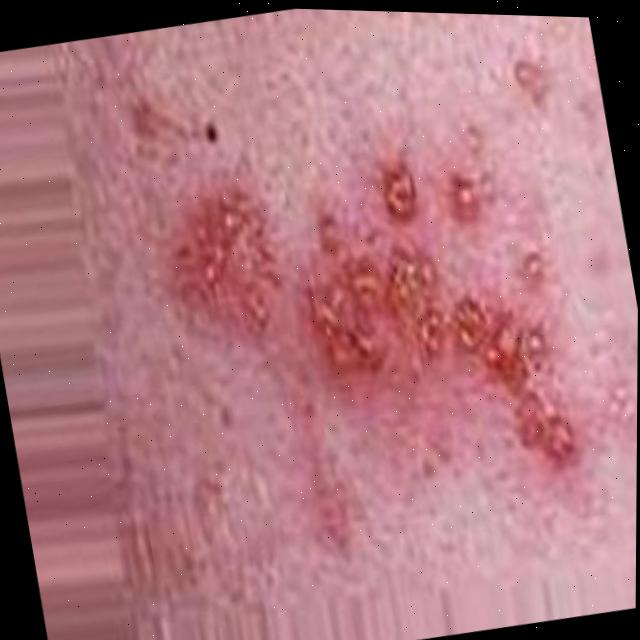Shingles: (138, 135, 608, 544)
